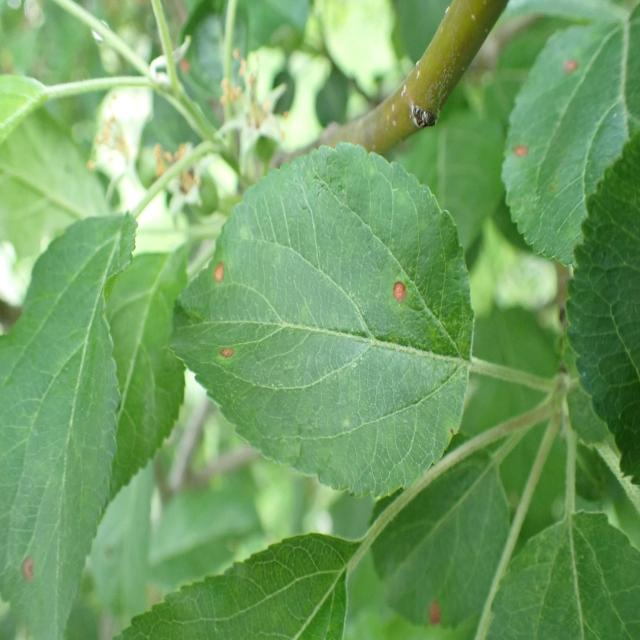frog-eye-leaf-spot: (164, 142, 476, 498), (0, 209, 138, 640), (499, 3, 640, 265), (370, 431, 511, 631)
